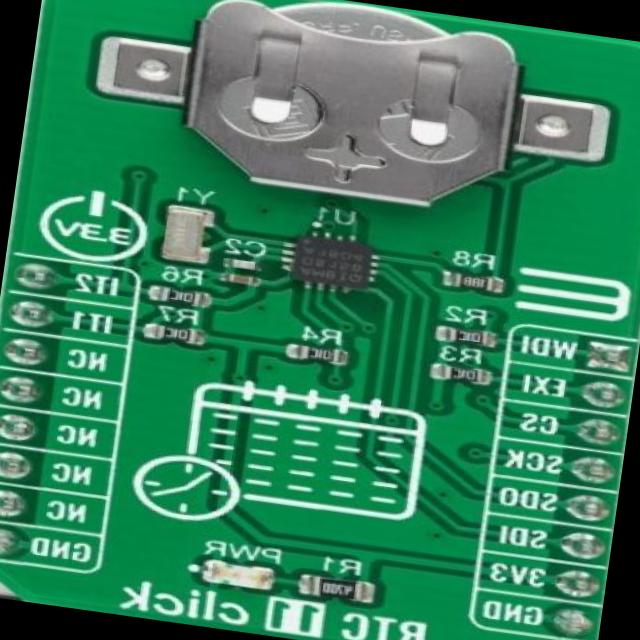IC: (282, 230, 374, 296)
LED: (201, 560, 277, 590)
capacitor: (216, 272, 257, 291), (220, 256, 258, 275)
resistor: (306, 576, 372, 604), (443, 324, 496, 350), (434, 362, 484, 388), (147, 322, 197, 346), (154, 286, 203, 306), (297, 347, 346, 367), (454, 273, 492, 294)
